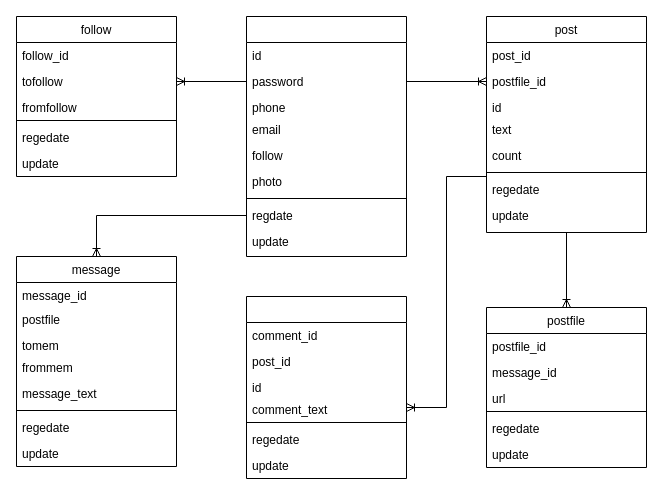
The diagram is 663 pixels wide and 495 high, and some of its shapes have lost their labels. The shapes that lost their labels are listed below. From the top down, each one's box as (x1, y1, x2, y2) in pixels, then its label:
(246, 16, 406, 256): member
(246, 296, 406, 478): commnet
